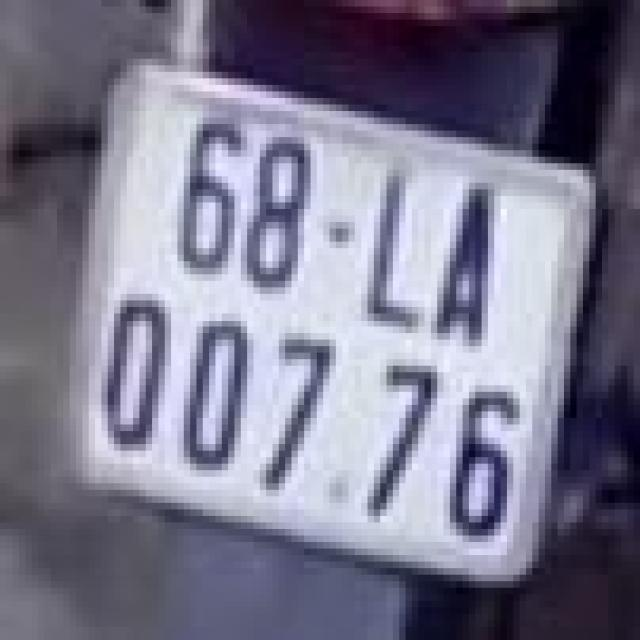0: (174, 313, 257, 477), (89, 291, 164, 447)
6: (162, 101, 238, 278), (453, 382, 523, 552)
7: (364, 366, 447, 522), (269, 314, 333, 496)
8: (234, 134, 317, 297)
A: (431, 166, 507, 356)
L: (355, 150, 424, 346)
